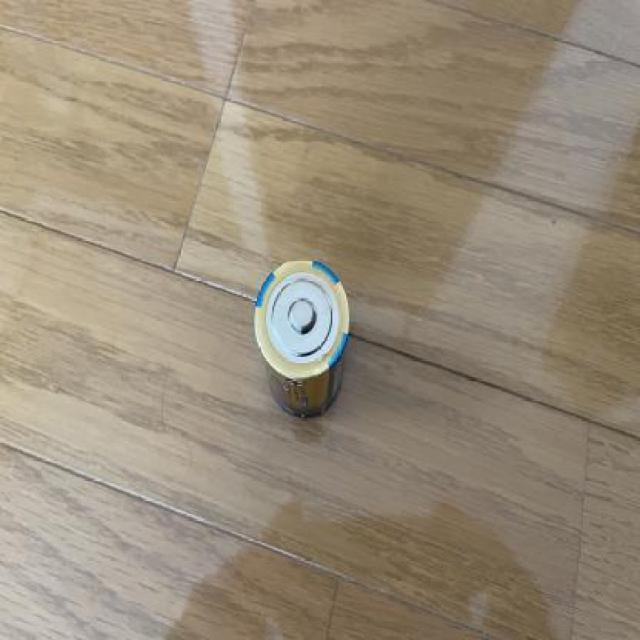AA: (249, 251, 362, 425)
